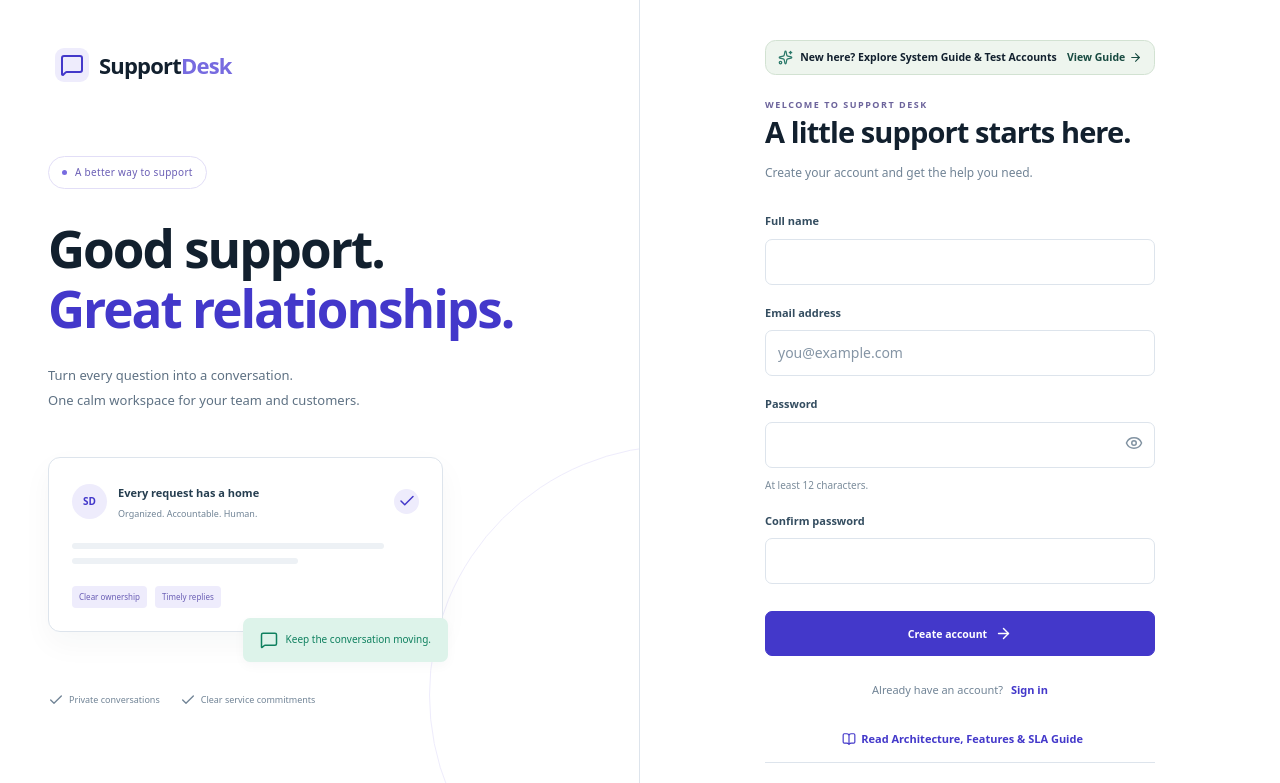
Test: shows resend failures instead of dropping rejected promises
Type "Customer" into the field labelled "Full name".
click(960, 262); type("Customer")  # box x1=765 y1=239 x2=1155 y2=285
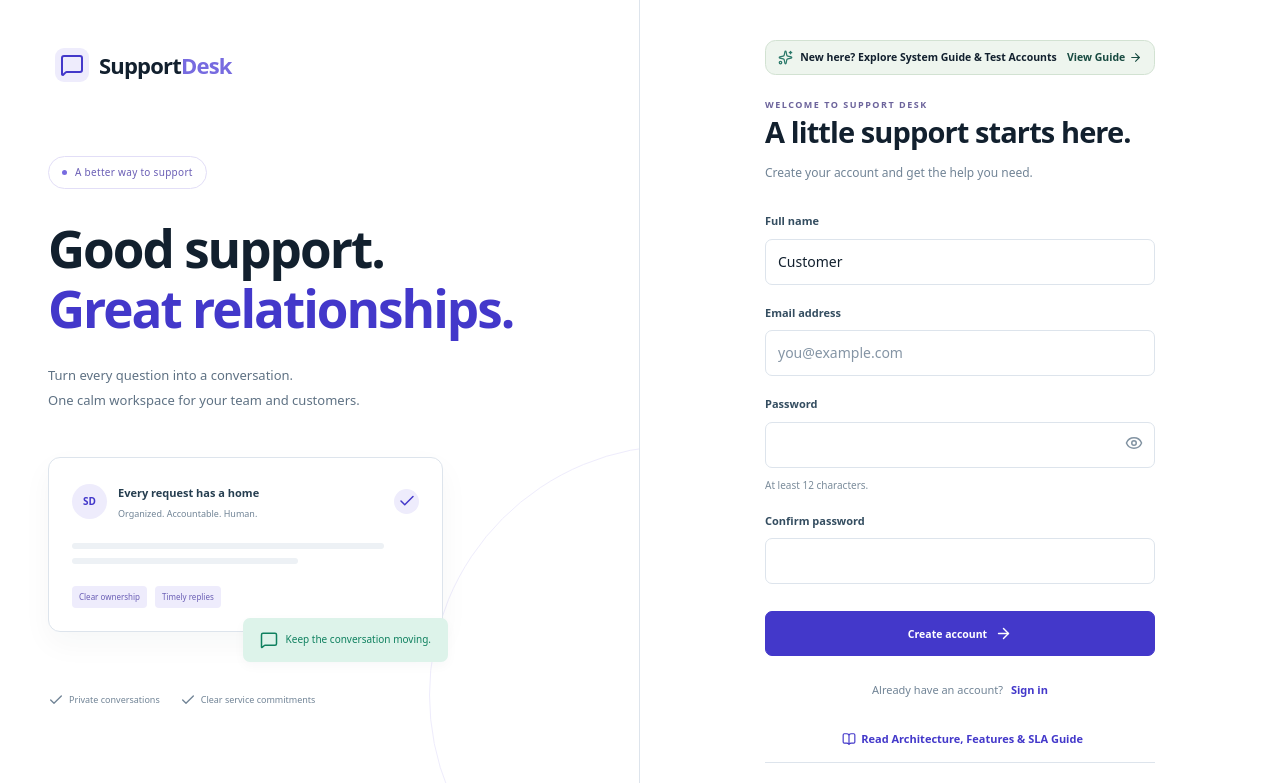
Type "customer@example.com" into the field labelled "Email address".
click(960, 353); type("customer@example.com")  # box x1=765 y1=330 x2=1155 y2=376
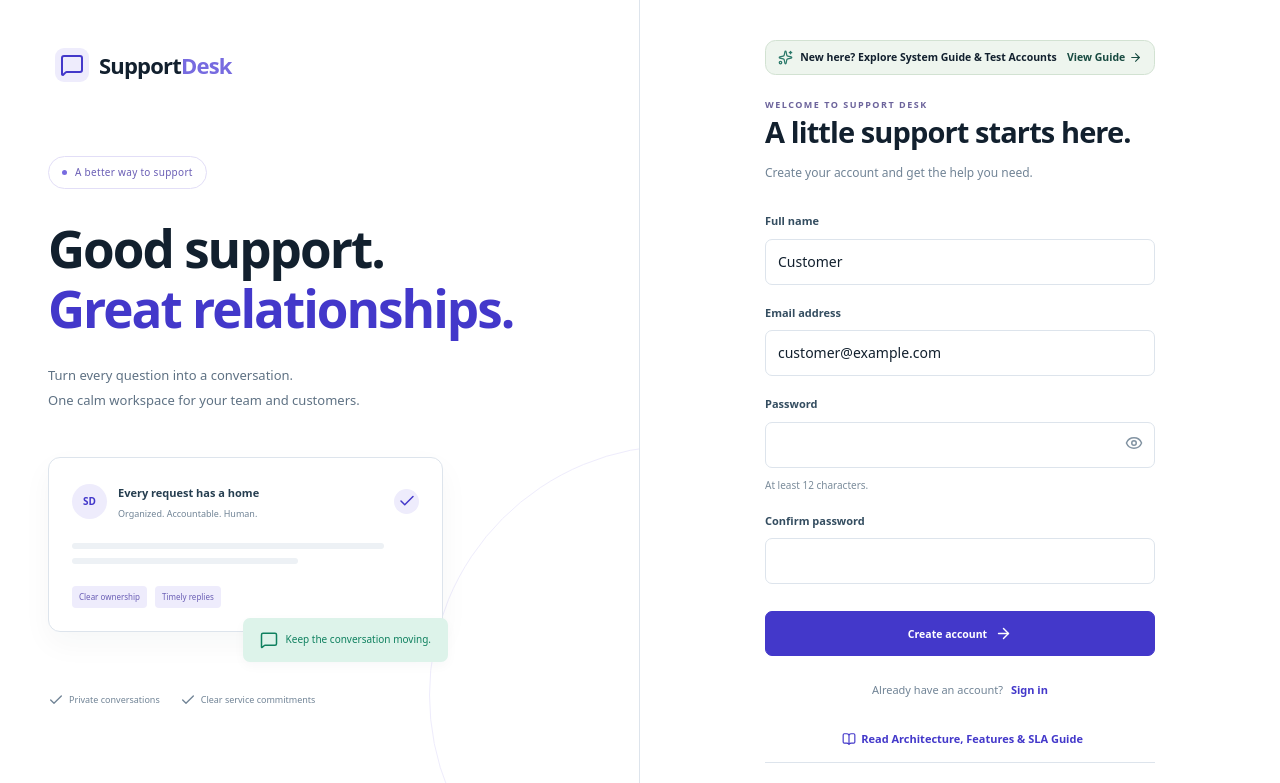
Type "long-password-123" into the password field labelled "Password At least 12 characters.".
click(960, 445); type("long-password-123")  # box x1=765 y1=422 x2=1155 y2=468
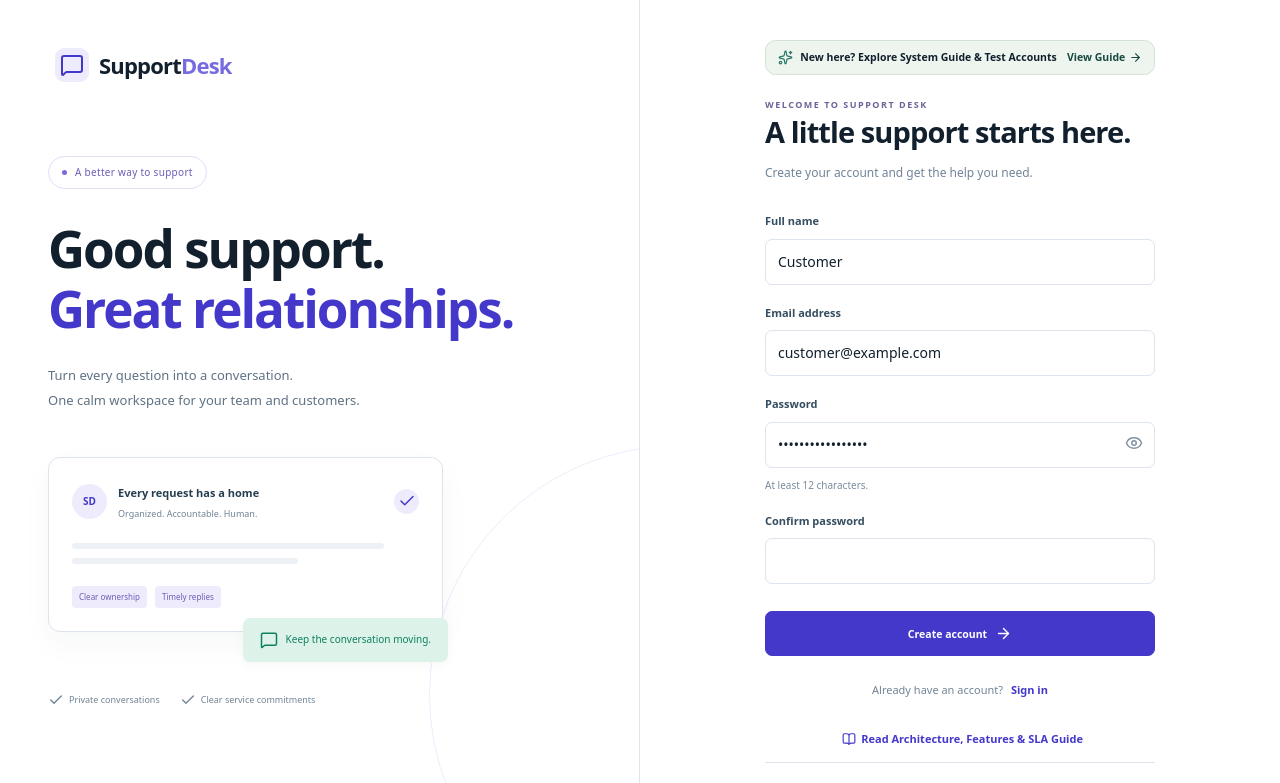
Type "long-password-123" into the password field labelled "Confirm password".
click(960, 561); type("long-password-123")  # box x1=765 y1=538 x2=1155 y2=584
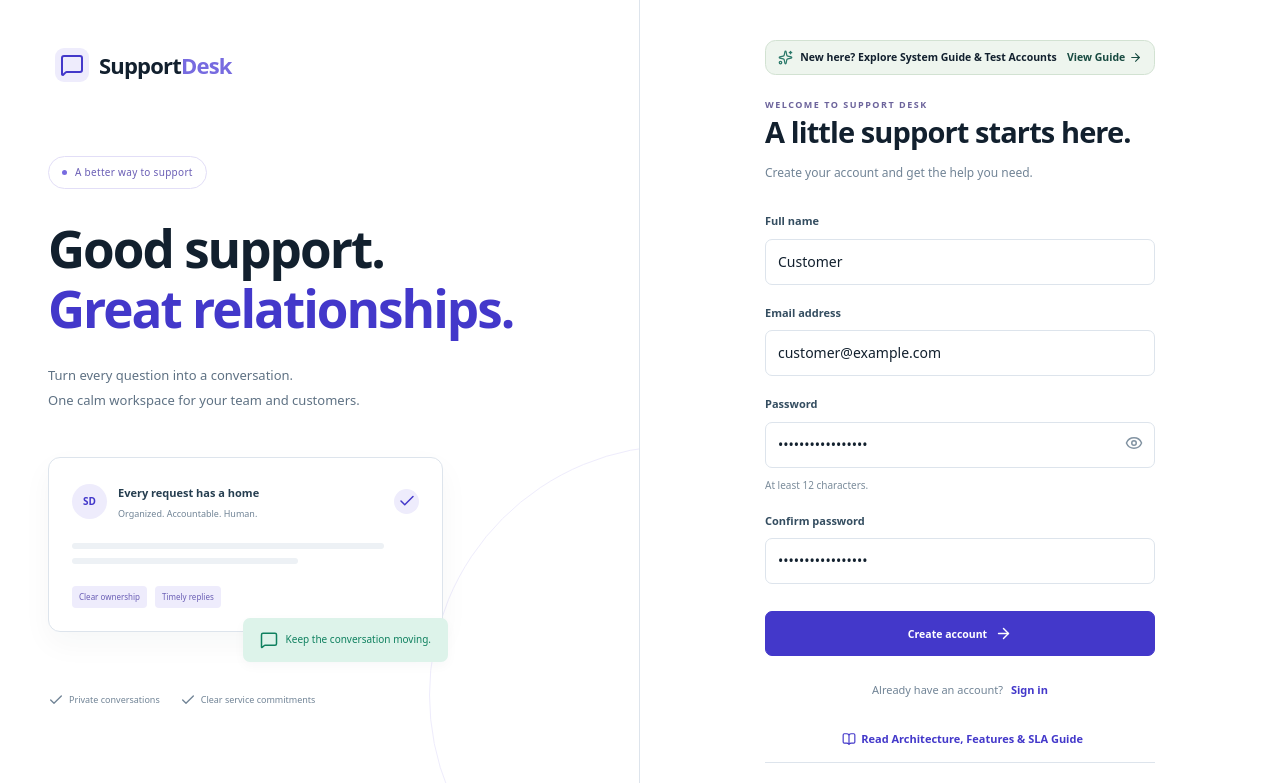
Click the button "Create account".
click(960, 634)  # box x1=765 y1=611 x2=1155 y2=656
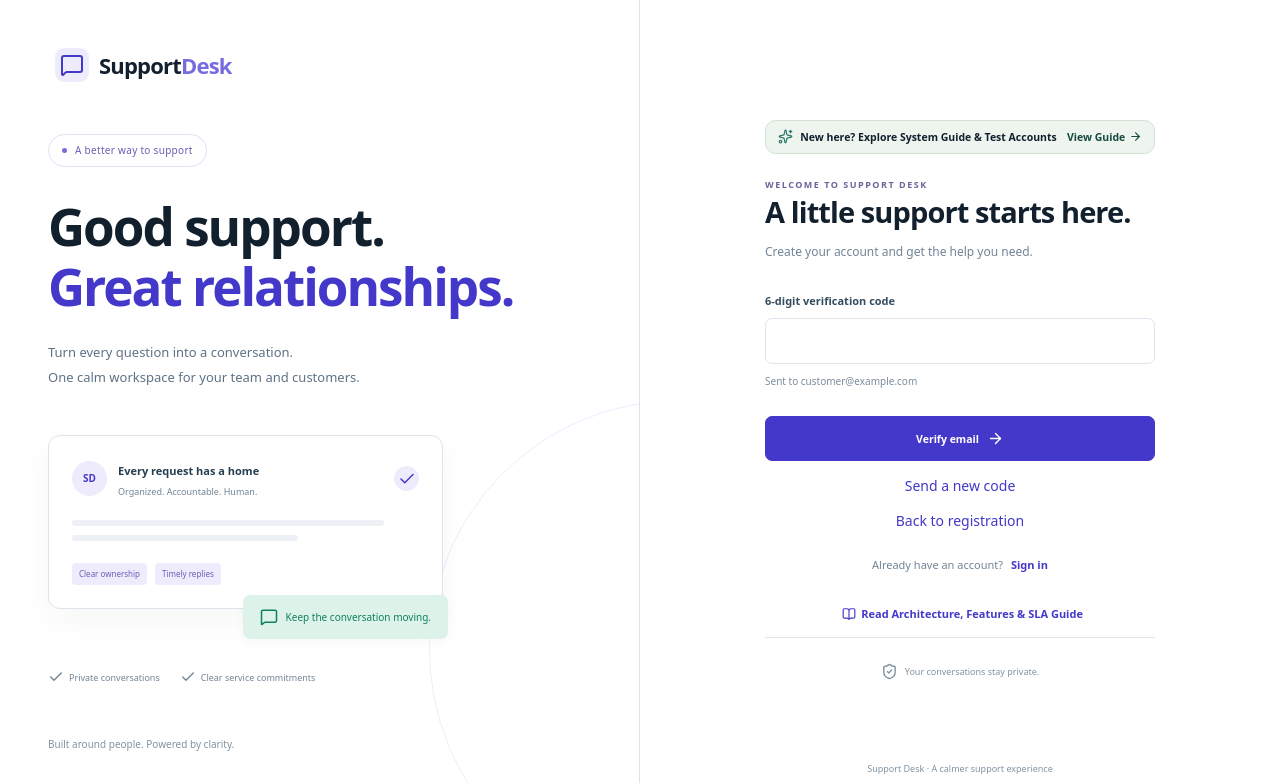
Click the button "Send a new code".
click(960, 486)  # box x1=905 y1=475 x2=1015 y2=496
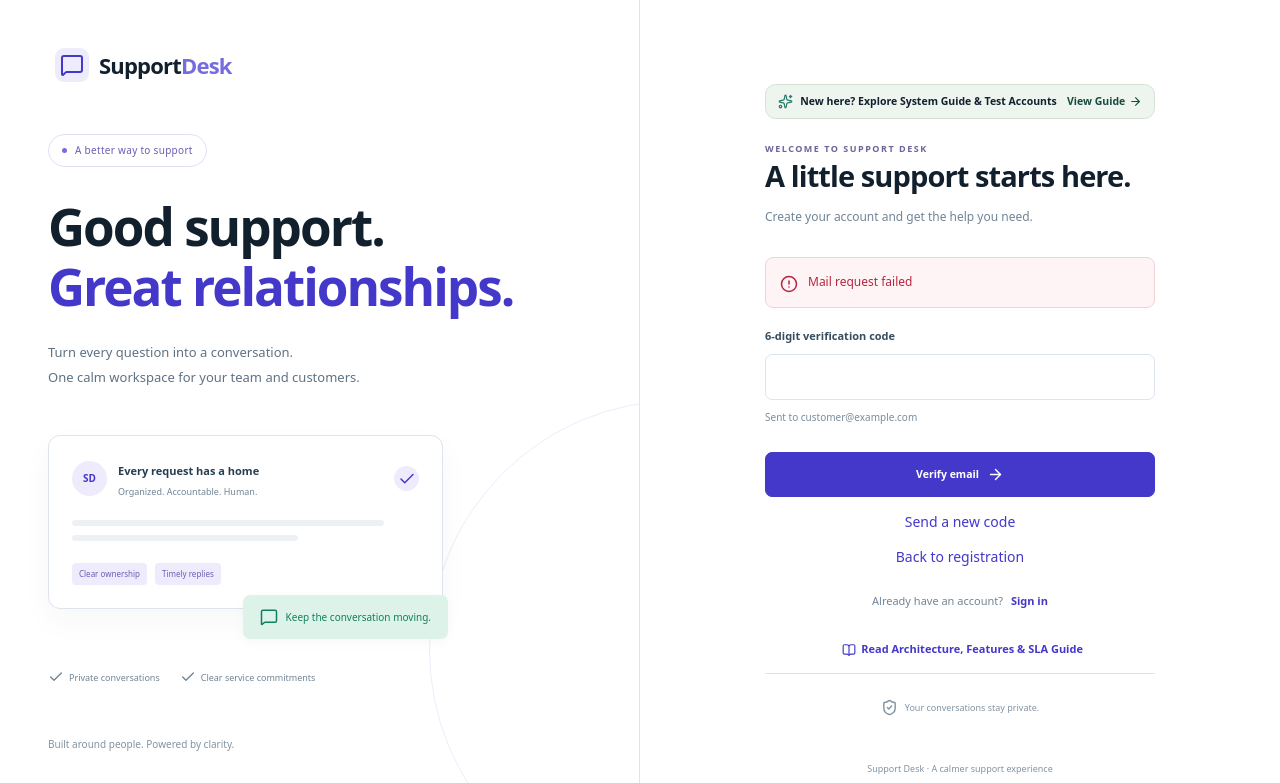
Expected: the text "Mail request failed" is shown, x1=808 y1=272 x2=912 y2=293
